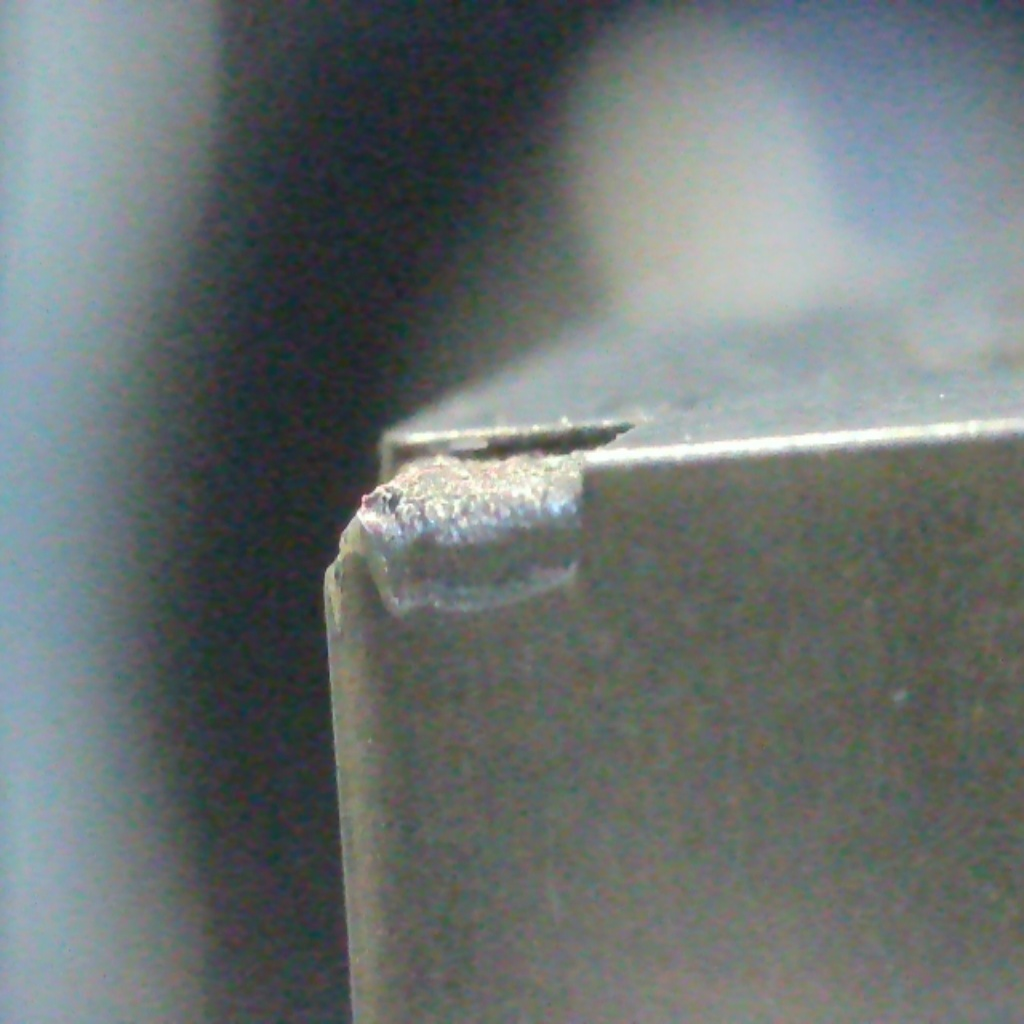flank_wear: (333, 519, 590, 613)
